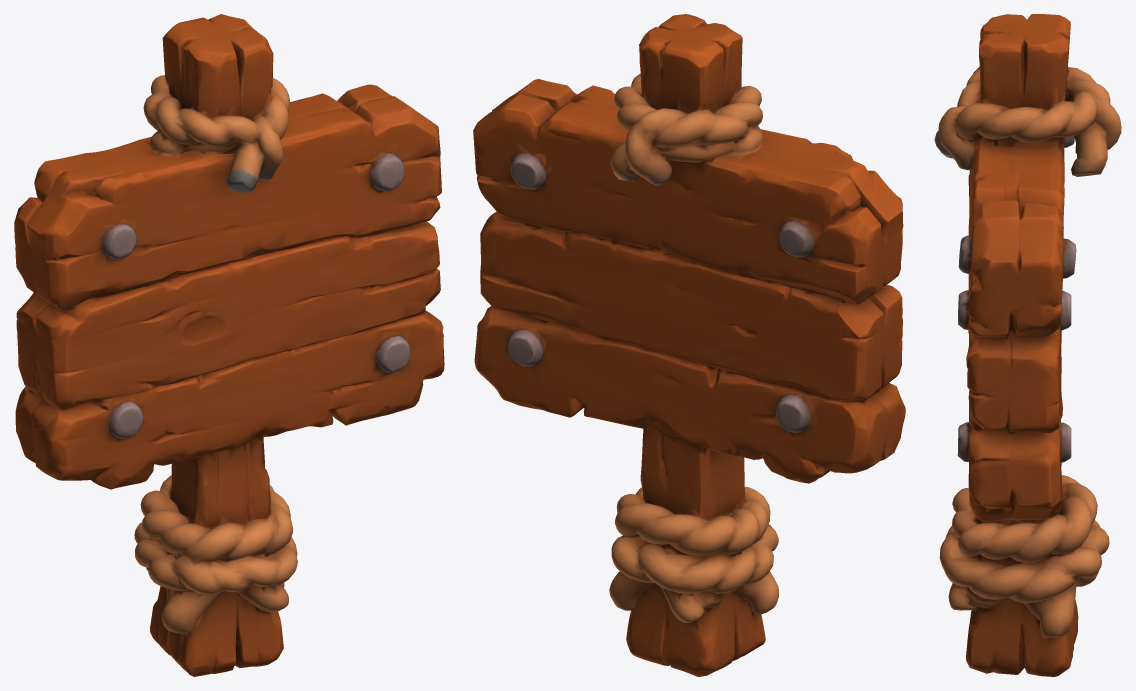
File: Plate.fbx
3 renders of one model, left to right at view 1: azimuth 30°, elevation 25°; view 2: azimuth 150°, elevation 25°; view 3: azimuth 270°, elevation 25°, orthographic.
Parts seen in each view (by area): view 1: tripo_node_d61ecf55; view 2: tripo_node_d61ecf55; view 3: tripo_node_d61ecf55.
Boxes of the visible parts, x1=… form: tripo_node_d61ecf55: x1=14, y1=14, x2=444, y2=676; tripo_node_d61ecf55: x1=473, y1=14, x2=905, y2=676; tripo_node_d61ecf55: x1=934, y1=14, x2=1121, y2=676.
Bounding box in the file's own units: 0.673 × 1 × 0.2691.
